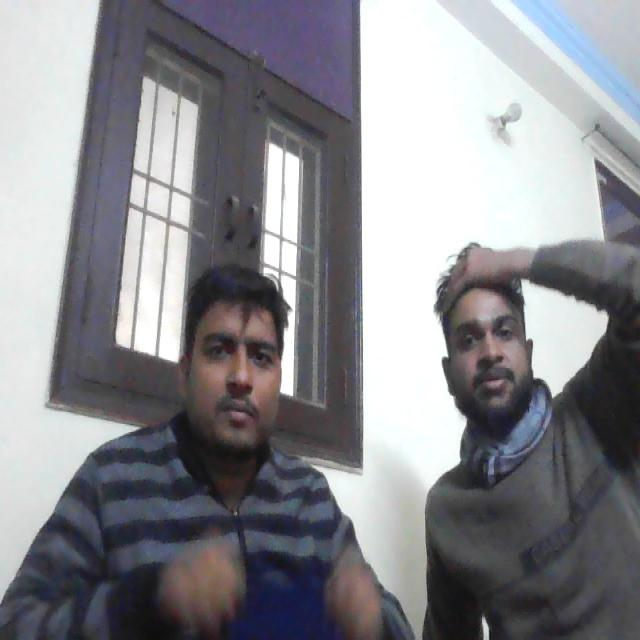real: (178, 251, 289, 461)
